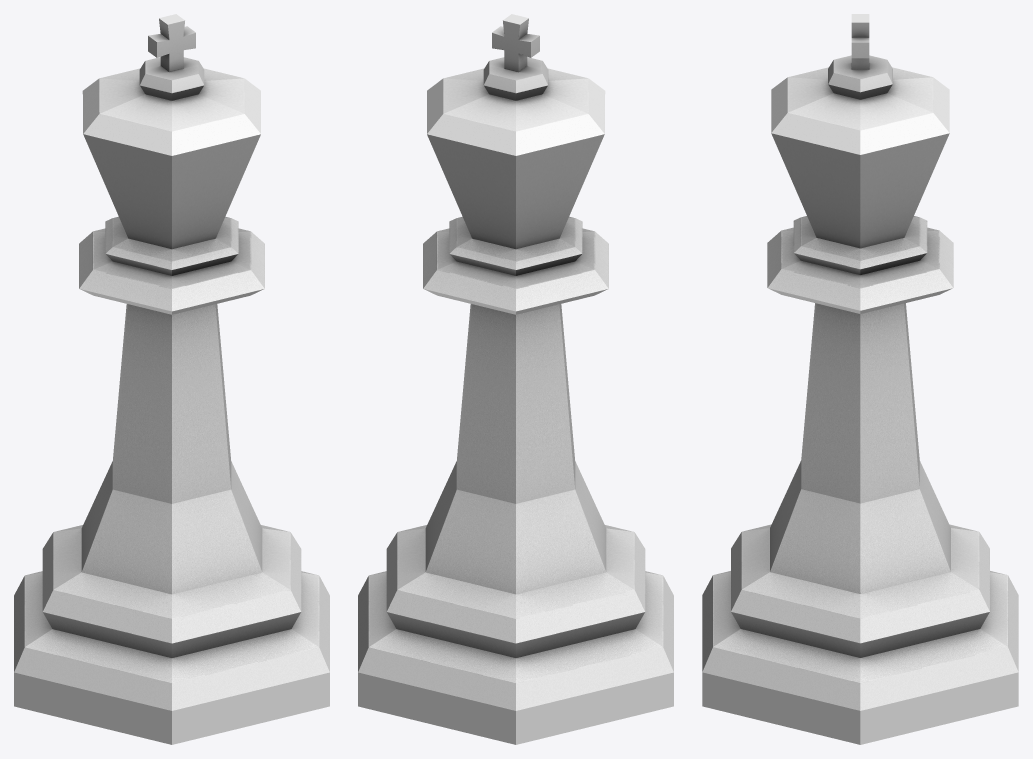
Rendered from king.fbx.
The picture shows the model from 3 angles, left to right: view 1: azimuth 30°, elevation 25°; view 2: azimuth 150°, elevation 25°; view 3: azimuth 270°, elevation 25°; orthographic projection.
Parts seen in each view (by area): view 1: King; view 2: King; view 3: King.
Boxes of the visible parts, <box> form: King: <box>14,14,329,744</box>; King: <box>358,14,673,744</box>; King: <box>702,14,1018,744</box>.
Bounding box in the file's own units: 87.63 × 172 × 75.89.
